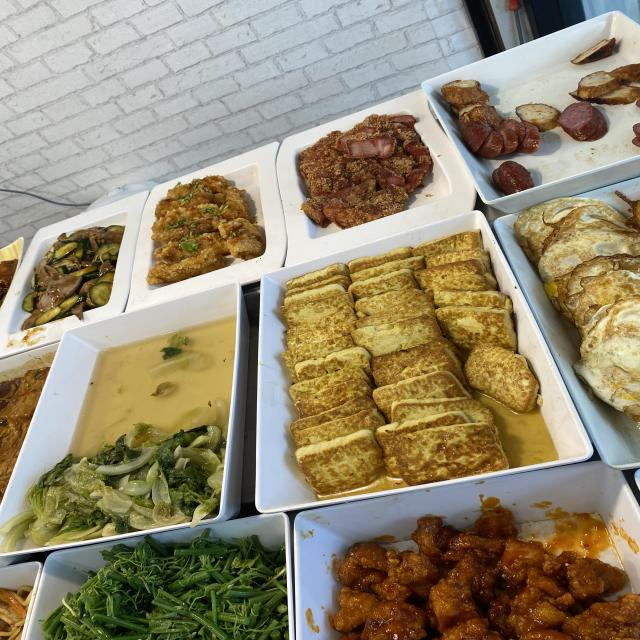Pan Fried Tofu: (293, 288, 499, 460)
